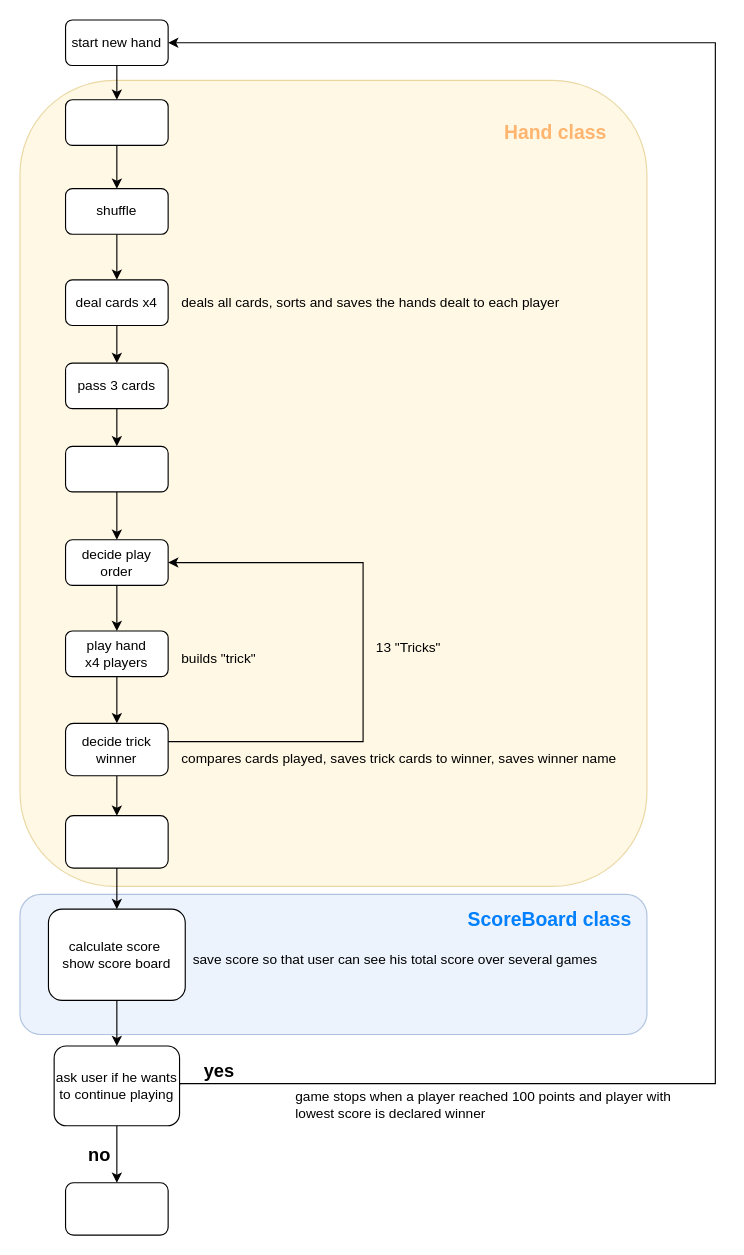
This 744x1255 diagram has some shape labels left out. The centre of each missing label's shape, as x and y in pixels:
"create deck" goes at (x=116, y=122).
"decide hand winner" goes at (x=116, y=841).
"end game" goes at (x=116, y=1208).
"show hand" goes at (x=116, y=468).
